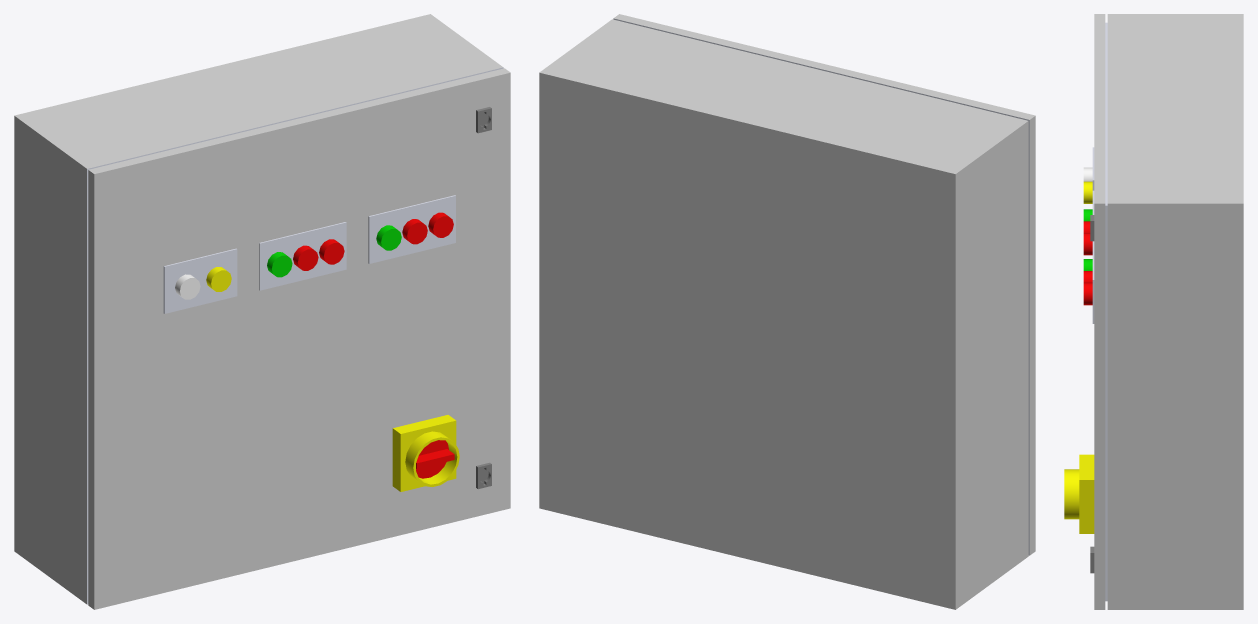
The model's file is uploads_files_765964_ControlSwitch.fbx.
The picture shows the model from 3 angles, left to right: view 1: azimuth 30°, elevation 25°; view 2: azimuth 150°, elevation 25°; view 3: azimuth 270°, elevation 25°; orthographic projection. The views are drawn at different scales.
Visible parts, largest first — view 1: mesh 3, mesh 5, mesh 2, mesh 1, mesh 7, mesh 4; view 2: mesh 3, mesh 5; view 3: mesh 3, mesh 2, mesh 5, mesh 1, mesh 4.
Part boxes in pixels (x1,y1,x2,y2): mesh 3: (14, 14, 510, 609); mesh 5: (87, 67, 503, 604); mesh 2: (206, 267, 459, 491); mesh 1: (293, 212, 454, 478); mesh 7: (267, 225, 401, 277); mesh 4: (476, 107, 491, 489); mesh 3: (539, 14, 1035, 609); mesh 5: (613, 18, 1029, 555); mesh 3: (1094, 14, 1243, 609); mesh 2: (1064, 181, 1094, 533); mesh 5: (1092, 22, 1107, 601); mesh 1: (1083, 221, 1092, 305); mesh 4: (1090, 215, 1094, 573).
Size of the model in its own units: 60 by 60 by 24.
